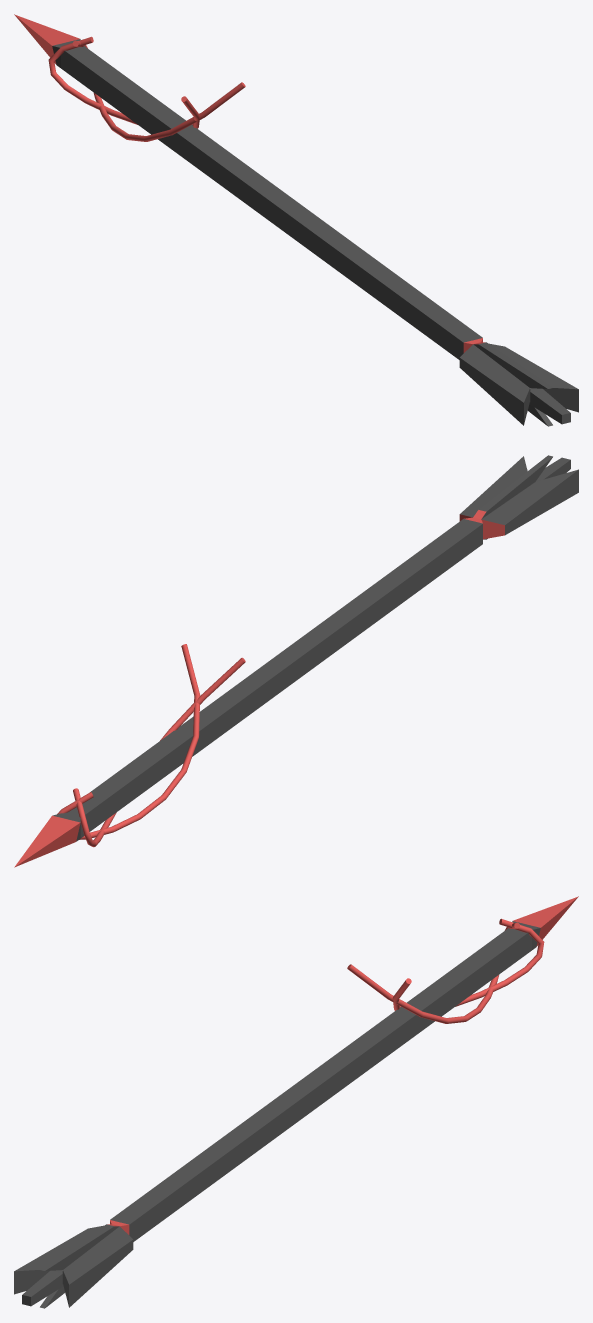
File: ArrowTime.fbx
The picture shows the model from 3 angles, top to bottom: view 1: azimuth 30°, elevation 25°; view 2: azimuth 150°, elevation 25°; view 3: azimuth 330°, elevation 25°; orthographic projection.
Parts seen in each view (by area): view 1: Cube.004, BézierCurve.003; view 2: Cube.004, BézierCurve.003; view 3: Cube.004, BézierCurve.003.
Part boxes in pixels (bbox=[...]): Cube.004: bbox=[14, 14, 578, 426]; BézierCurve.003: bbox=[48, 36, 245, 141]; Cube.004: bbox=[14, 455, 578, 867]; BézierCurve.003: bbox=[57, 644, 245, 847]; Cube.004: bbox=[14, 896, 578, 1308]; BézierCurve.003: bbox=[347, 918, 544, 1023].
Bounding box in the file's own units: 30.07 × 46.83 × 452.
